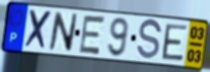9: (106, 16, 130, 59)
E: (77, 14, 108, 57), (161, 23, 189, 63)
N: (47, 11, 80, 54)
S: (135, 18, 164, 62)
X: (23, 8, 54, 52)
